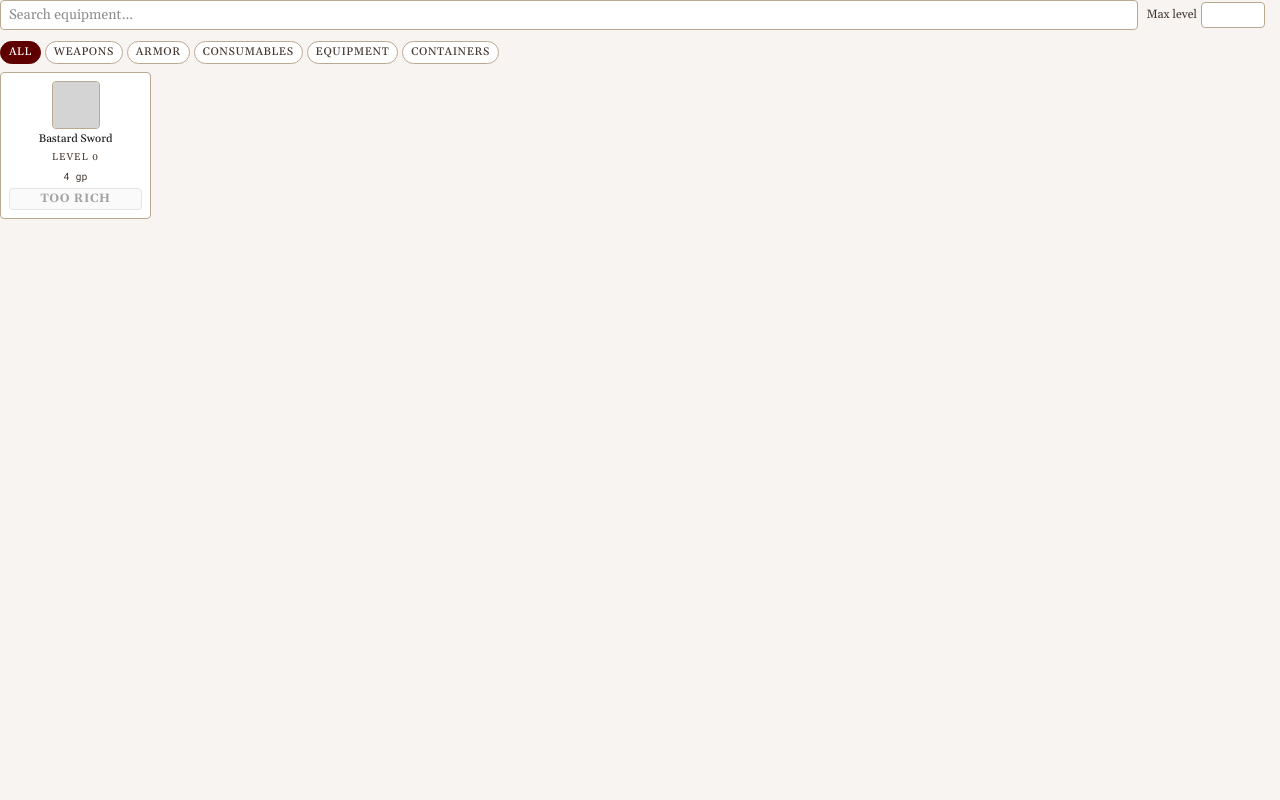
it: ItemShopPicker — detail overlay › opens the detail overlay when a tile is clicked
The width and height of the screenshot is (1280, 800).
Click the button with test id "shop-tile": (76, 145) left=0, top=72, right=151, bottom=219
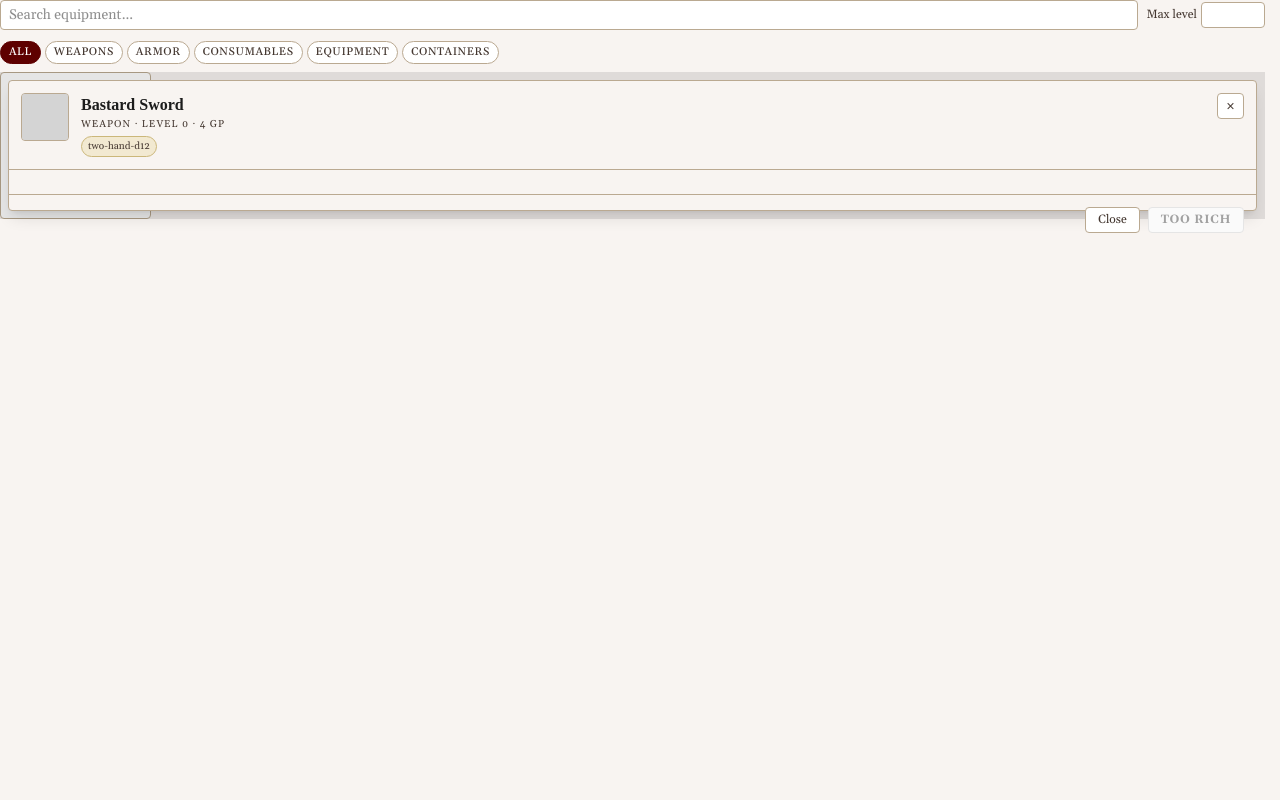
Check: the dialog with test id "shop-item-detail" is shown, box left=0, top=72, right=1265, bottom=219
Check: the dialog with test id "shop-item-detail" shows "broad-bladed sword", box left=21, top=192, right=262, bottom=210
